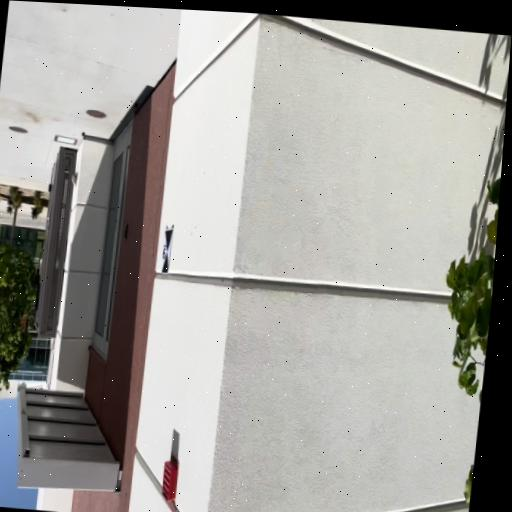target9: (158, 228, 173, 273)
